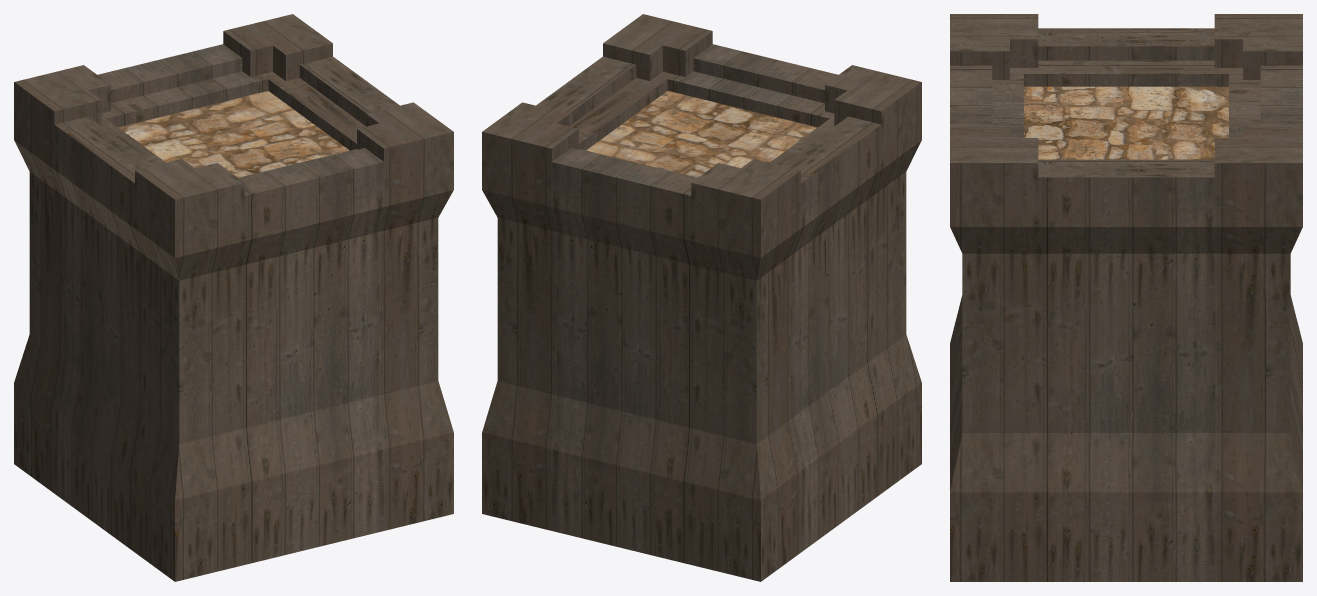
File: castle-watch.glb
The picture shows the model from 3 angles, left to right: view 1: azimuth 30°, elevation 25°; view 2: azimuth 150°, elevation 25°; view 3: azimuth 270°, elevation 25°; orthographic projection. The views are drawn at different scales.
Visible parts, largest first — view 1: tower-square; view 2: tower-square; view 3: tower-square.
Part boxes in pixels (x1,y1,x2,y2): tower-square: [14, 14, 453, 581]; tower-square: [482, 14, 921, 581]; tower-square: [950, 14, 1302, 581].
Bounding box in the file's own units: 1 × 1.31 × 1.
2 materials, 2 textured.
